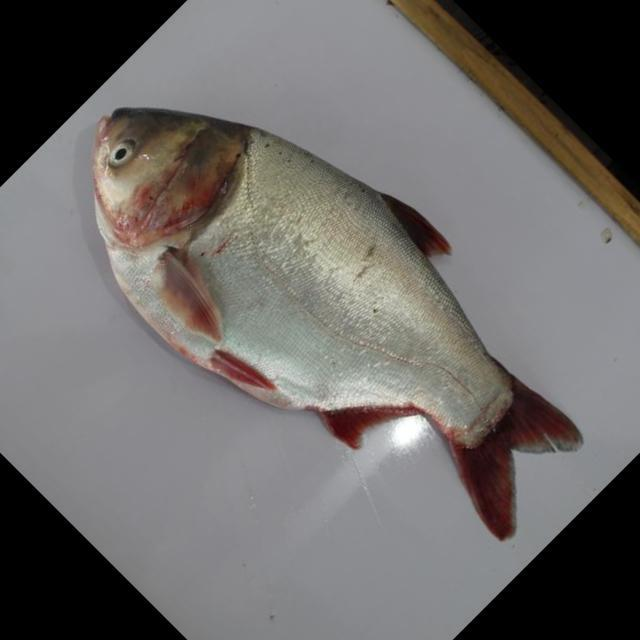SilverCarp: (86, 119, 572, 548)
